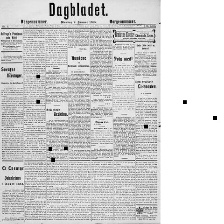news_paper: (0, 0, 160, 224)
